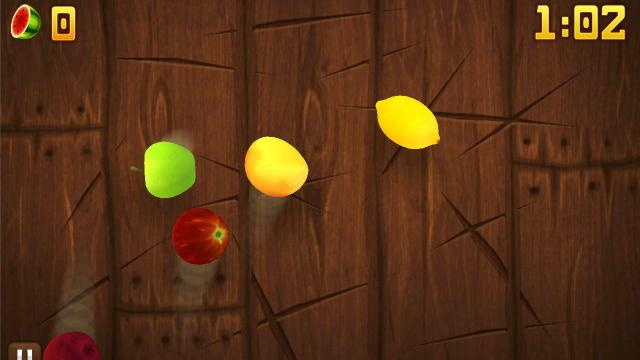fruit: (380, 94, 440, 150), (176, 212, 227, 262), (251, 146, 299, 190), (146, 148, 192, 190), (48, 334, 96, 360)
